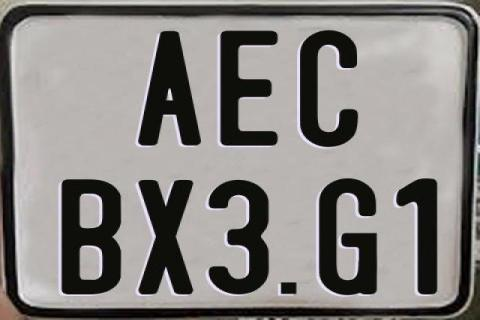0: (209, 178, 269, 294), (395, 178, 437, 294)
A: (136, 31, 200, 148)
B: (60, 179, 120, 297)
C: (300, 29, 364, 149)
E: (219, 30, 279, 146)
G: (319, 179, 378, 295)
X: (138, 180, 193, 298)
